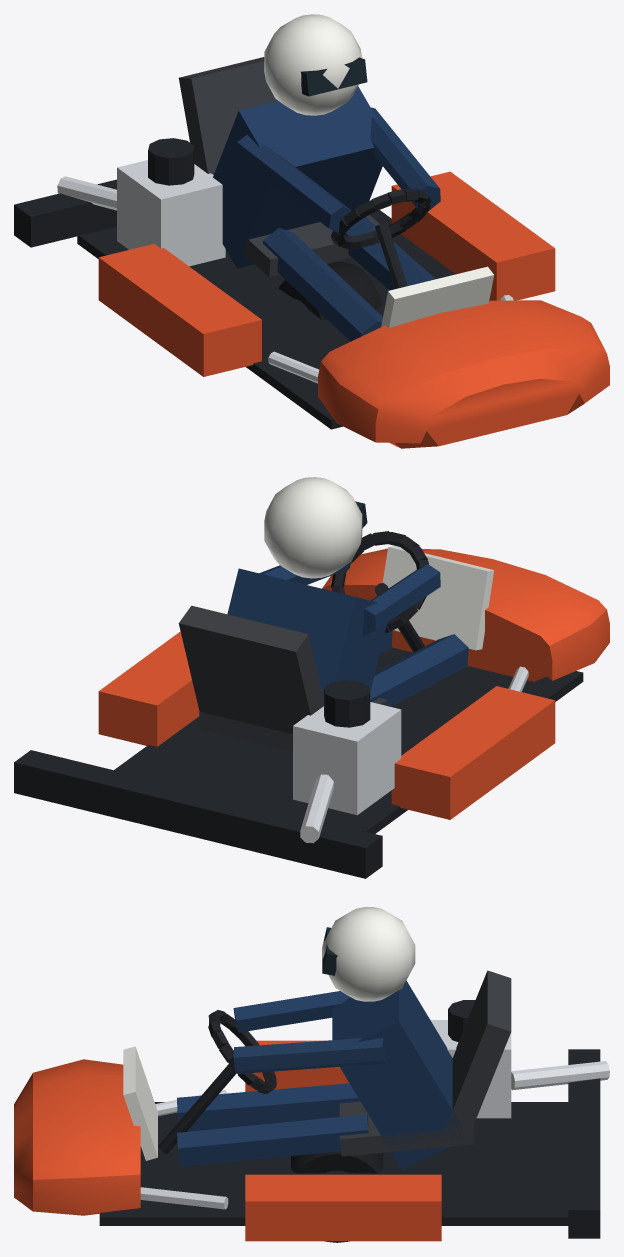
Rendered from kart.glb.
3 views of the same model, one above another, from view 1: azimuth 30°, elevation 25°; view 2: azimuth 150°, elevation 25°; view 3: azimuth 270°, elevation 25° (orthographic). The views are drawn at different scales.
Parts seen in each view (by area): view 1: body, wheel; view 2: body; view 3: body, wheel.
Part boxes in pixels (left/top/right/bottom): body: left=14, top=14, right=609, bottom=448; wheel: left=278, top=262, right=381, bottom=319; body: left=14, top=477, right=609, bottom=878; body: left=14, top=907, right=609, bottom=1241; wheel: left=291, top=1151, right=383, bottom=1242.
Bounding box in the file's own units: 1.2 × 1.12 × 1.88.
